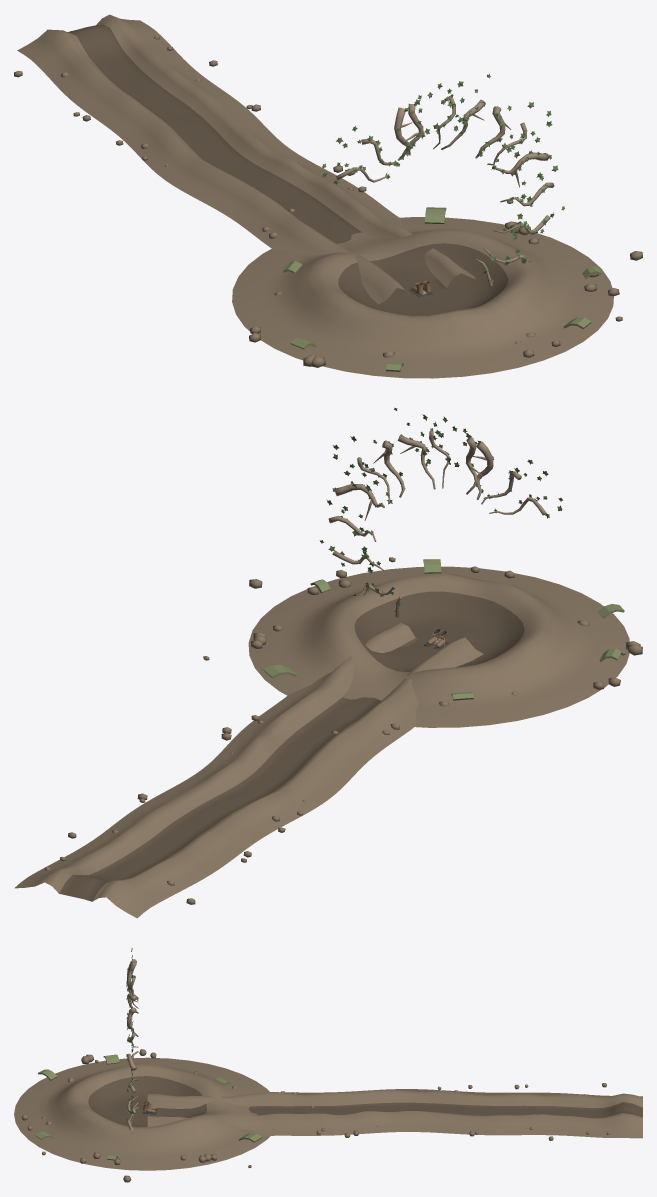
The model's file is rh_trail.glb.
3 renders of one model, top to bottom at view 1: azimuth 30°, elevation 25°; view 2: azimuth 150°, elevation 25°; view 3: azimuth 270°, elevation 25°, orthographic. The views are drawn at different scales.
Parts seen in each view (by area): view 1: Crater, Furrow, DoorRoots; view 2: Crater, Furrow, DoorRoots; view 3: Crater, Furrow, DoorRoots.
Boxes of the visible parts, x1=… form: Crater: x1=232, y1=200, x2=642, y2=378; Furrow: x1=14, y1=14, x2=476, y2=304; DoorRoots: x1=322, y1=74, x2=564, y2=286; Crater: x1=203, y1=557, x2=642, y2=733; Furrow: x1=14, y1=623, x2=483, y2=918; DoorRoots: x1=319, y1=407, x2=562, y2=617; Crater: x1=14, y1=1049, x2=314, y2=1182; Furrow: x1=147, y1=1083, x2=642, y2=1140; DoorRoots: x1=126, y1=948, x2=138, y2=1133.
Bounding box in the file's own units: 6.23 × 3.72 × 12.7.
